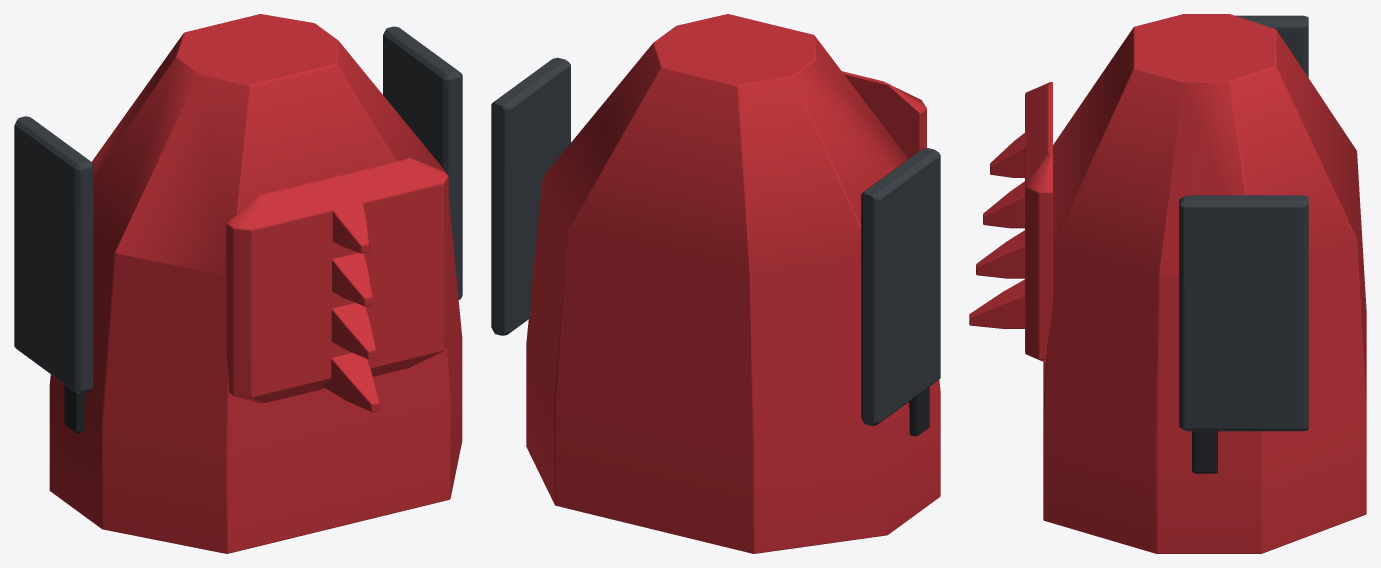
The model's file is QuadBodyBack_Set02_Bastion.fbx.
The picture shows the model from 3 angles, left to right: view 1: azimuth 30°, elevation 25°; view 2: azimuth 150°, elevation 25°; view 3: azimuth 270°, elevation 25°; orthographic projection.
Visible parts, largest first — view 1: QuadBodyBack_Set02_Bastion; view 2: QuadBodyBack_Set02_Bastion; view 3: QuadBodyBack_Set02_Bastion.
Boxes of the visible parts, x1=… form: QuadBodyBack_Set02_Bastion: x1=14, y1=14, x2=462, y2=553; QuadBodyBack_Set02_Bastion: x1=491, y1=14, x2=940, y2=553; QuadBodyBack_Set02_Bastion: x1=969, y1=14, x2=1366, y2=553.
Size of the model in its own units: 0.97 by 1 by 0.86.
